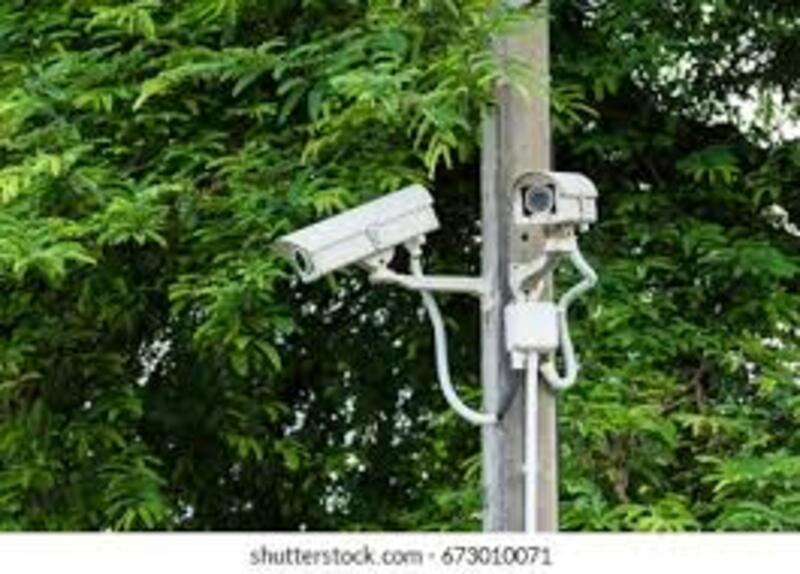box: (264, 235, 432, 315), (507, 162, 603, 236)
